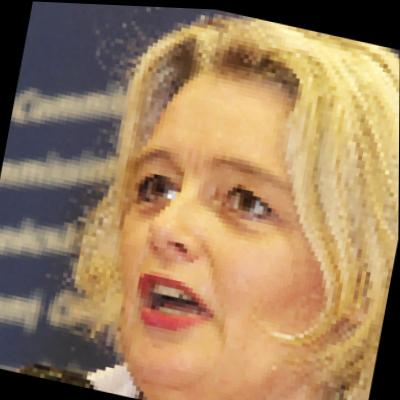surprise: (83, 42, 370, 400)
